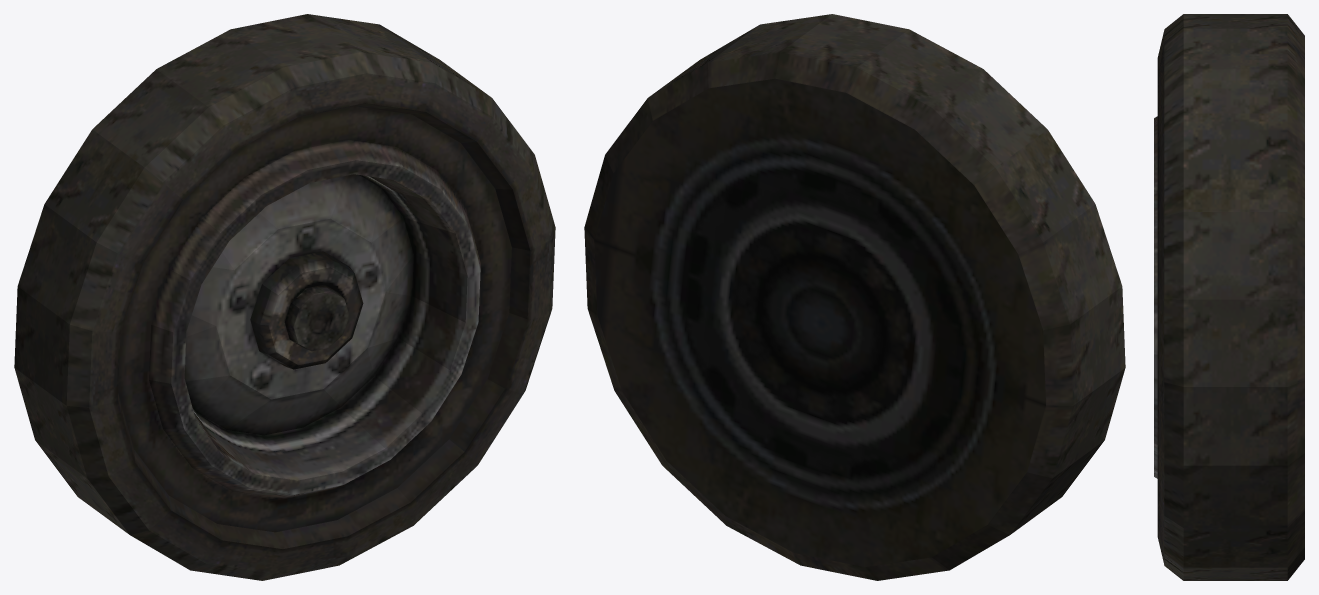
Rendered from rueda.obj.
3 views of the same model, side by side, from view 1: azimuth 30°, elevation 25°; view 2: azimuth 150°, elevation 25°; view 3: azimuth 270°, elevation 25° (orthographic).
Parts seen in each view (by area): view 1: 0.001; view 2: 0.001; view 3: 0.001.
Boxes of the visible parts, <box> form: 0.001: <box>14,14,555,580</box>; 0.001: <box>584,14,1125,580</box>; 0.001: <box>1154,14,1304,580</box>.
Bounding box in the file's own units: 0.7017 × 0.7018 × 0.188.
